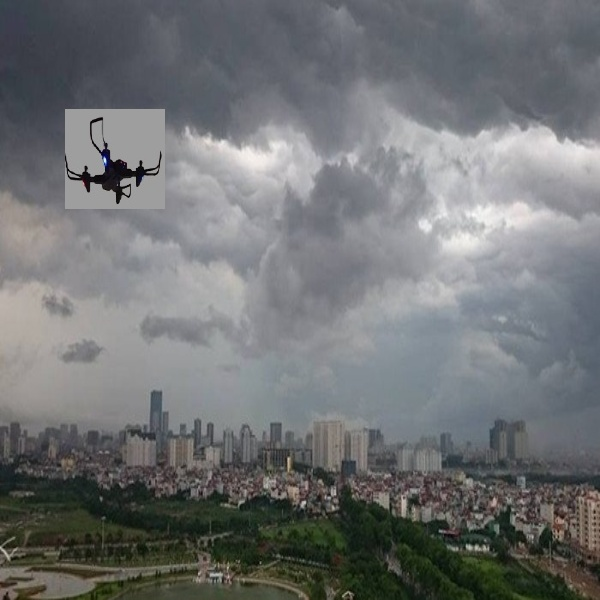drone: (61, 108, 168, 207)
